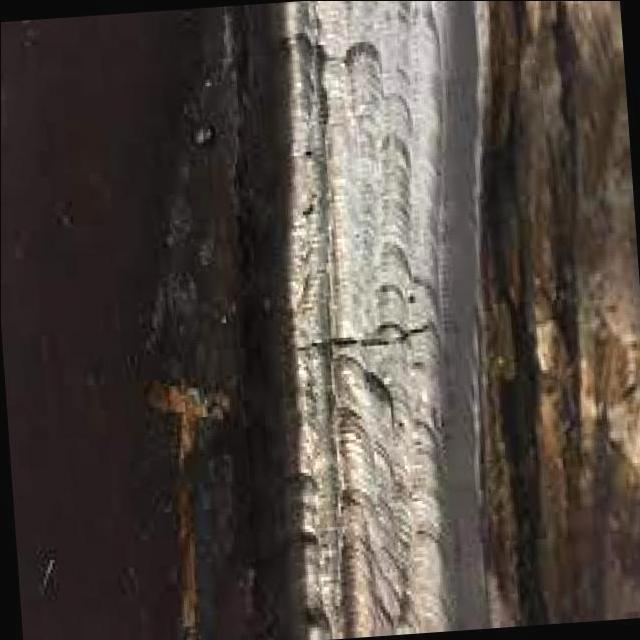defect: (286, 320, 434, 355)
